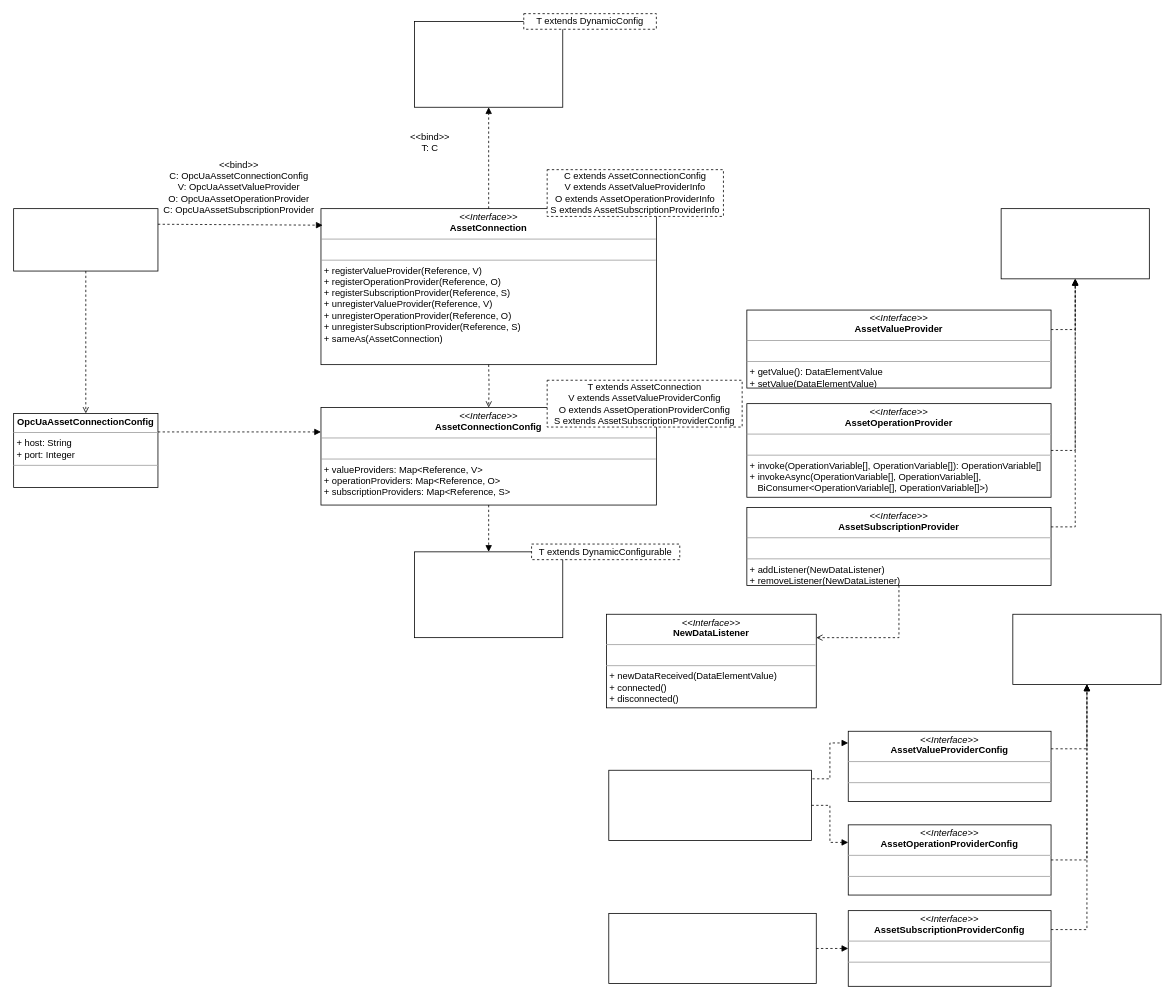
Some shapes in this 1175 by 1000 pixel diagram are drawn without their labels. The shapes that lost their labels are listed below. From the top down, each one's centre as x and y in pixels, then its label:
point (488, 64): <<Interface>> Configurable + init(CoreConfig, T) + asConfig(): T
point (85, 239): OpcUaAssetConnection
point (1074, 243): <<Interface>> AssetProvider
point (488, 594): Config + getImplementationType() : Class<T> + newInstance(CoreConfig): T
point (1086, 648): <<Interface>> AssetProviderConfig
point (710, 804): OpcUaCallBasedProviderConfig + nodeId: String
point (712, 948): OpcUaSubscriptionBasedProviderConfig + nodeId: String + interval: Long
